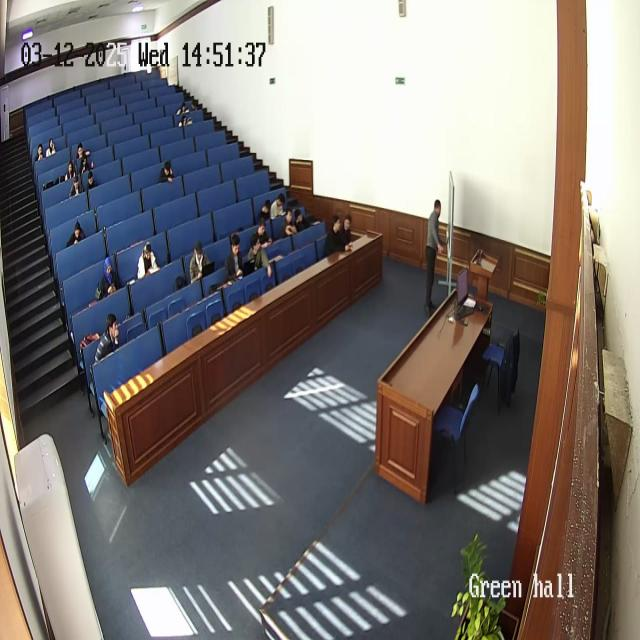person: (424, 197, 448, 313), (246, 231, 274, 277), (94, 314, 120, 362), (95, 258, 119, 301), (325, 213, 347, 257), (224, 234, 244, 282), (137, 241, 159, 280), (190, 241, 210, 283), (256, 217, 274, 250), (66, 219, 86, 247), (284, 207, 300, 236), (270, 193, 286, 220), (341, 214, 354, 247), (293, 207, 310, 232), (68, 170, 82, 197), (160, 161, 174, 184), (85, 166, 96, 191), (64, 160, 76, 182), (178, 112, 194, 128), (76, 142, 86, 166), (176, 97, 187, 117), (258, 200, 269, 219), (46, 137, 56, 156), (35, 142, 45, 161)
